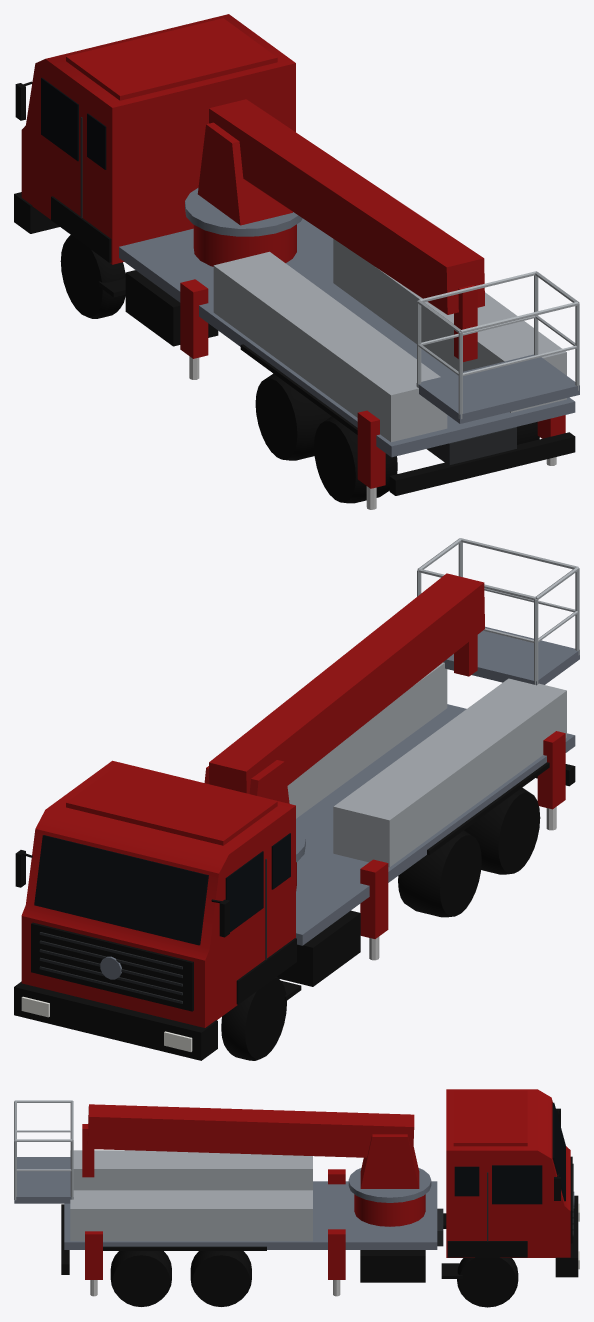
The model's file is plant.truck.access_platform_stowed.glb.
3 views of the same model, one above another, from view 1: azimuth 30°, elevation 25°; view 2: azimuth 150°, elevation 25°; view 3: azimuth 270°, elevation 25° (orthographic). The views are drawn at different scales.
Parts seen in each view (by area): view 1: chassis__car_red, body__steel_galvanised, boom__car_red, body__steel_painted, wheels__rubber, chassis__plastic_black, body__car_red, basket__steel_painted, outriggers__car_red, basket__steel_galvanised, chassis__glass_dark, chassis__steel_dark; view 2: chassis__car_red, body__steel_galvanised, boom__car_red, chassis__plastic_black, chassis__glass_dark, wheels__rubber, body__steel_painted, basket__steel_painted, outriggers__car_red, basket__steel_galvanised, chassis__steel_dark, body__car_red (+1 smaller); view 3: body__steel_galvanised, chassis__car_red, boom__car_red, wheels__rubber, body__steel_painted, chassis__plastic_black, body__car_red, chassis__glass_dark, basket__steel_painted, outriggers__car_red, basket__steel_galvanised, chassis__steel_dark.
Part boxes in pixels (bbox=[...]): chassis__car_red: bbox=[21, 14, 295, 264]; body__steel_galvanised: bbox=[213, 239, 566, 442]; boom__car_red: bbox=[209, 99, 484, 361]; body__steel_painted: bbox=[119, 188, 575, 457]; wheels__rubber: bbox=[60, 235, 539, 503]; chassis__plastic_black: bbox=[14, 81, 575, 495]; body__car_red: bbox=[193, 122, 296, 266]; basket__steel_painted: bbox=[416, 354, 579, 423]; outriggers__car_red: bbox=[180, 279, 565, 488]; basket__steel_galvanised: bbox=[417, 271, 579, 419]; chassis__glass_dark: bbox=[41, 77, 106, 169]; chassis__steel_dark: bbox=[80, 117, 516, 464]; chassis__car_red: bbox=[21, 760, 295, 1027]; body__steel_galvanised: bbox=[287, 662, 566, 867]; boom__car_red: bbox=[209, 573, 484, 793]; chassis__plastic_black: bbox=[14, 762, 575, 1060]; chassis__glass_dark: bbox=[34, 833, 290, 945]; wheels__rubber: bbox=[221, 787, 540, 1060]; body__steel_painted: bbox=[296, 704, 575, 945]; basket__steel_painted: bbox=[443, 626, 579, 685]; outriggers__car_red: bbox=[360, 731, 565, 938]; basket__steel_galvanised: bbox=[417, 538, 579, 684]; chassis__steel_dark: bbox=[39, 858, 266, 1003]; body__car_red: bbox=[204, 760, 296, 890]; body__steel_galvanised: bbox=[70, 1150, 312, 1241]; chassis__car_red: bbox=[446, 1089, 570, 1257]; boom__car_red: bbox=[82, 1104, 414, 1177]; wheels__rubber: bbox=[110, 1251, 518, 1307]; body__steel_painted: bbox=[64, 1168, 437, 1249]; chassis__plastic_black: bbox=[61, 1108, 578, 1282]; body__car_red: bbox=[354, 1134, 425, 1226]; chassis__glass_dark: bbox=[454, 1102, 565, 1204]; basket__steel_painted: bbox=[14, 1157, 73, 1203]; outriggers__car_red: bbox=[85, 1169, 345, 1279]; basket__steel_galvanised: bbox=[14, 1100, 73, 1200]; chassis__steel_dark: bbox=[437, 1163, 573, 1246].
Size of the model in its own units: 2.79 by 3.13 by 9.56.
